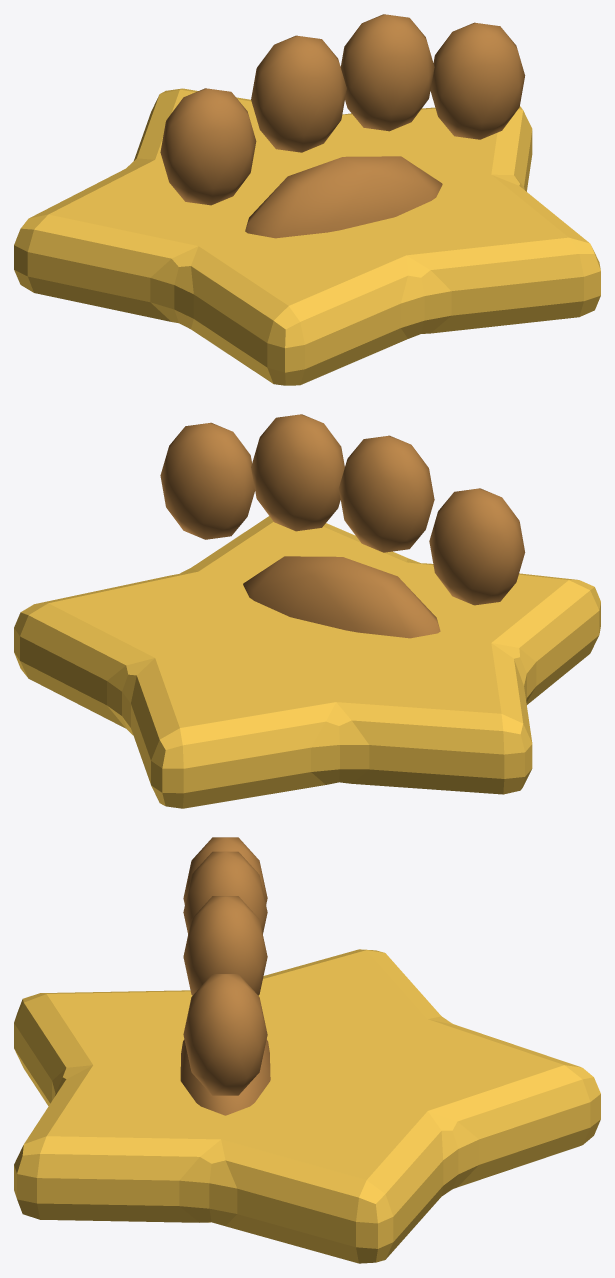
The model's file is paw_burst.glb.
The picture shows the model from 3 angles, top to bottom: view 1: azimuth 30°, elevation 25°; view 2: azimuth 150°, elevation 25°; view 3: azimuth 270°, elevation 25°; orthographic projection. The views are drawn at different scales.
Parts seen in each view (by area): view 1: GoldenPawBurst, PawPad, PawToe.2, PawToe.1, PawToe.4, PawToe.3; view 2: GoldenPawBurst, PawPad, PawToe.1, PawToe.2, PawToe.4, PawToe.3; view 3: GoldenPawBurst, PawToe.4, PawToe.3, PawToe.2, PawPad, PawToe.1.
Part boxes in pixels (x1=…): GoldenPawBurst: x1=14, y1=88, x2=600, y2=385; PawPad: x1=245, y1=156, x2=442, y2=238; PawToe.2: x1=251, y1=35, x2=346, y2=152; PawToe.1: x1=160, y1=88, x2=256, y2=205; PawToe.4: x1=430, y1=22, x2=525, y2=139; PawToe.3: x1=340, y1=14, x2=434, y2=131; GoldenPawBurst: x1=14, y1=516, x2=600, y2=808; PawPad: x1=243, y1=556, x2=440, y2=638; PawToe.1: x1=429, y1=488, x2=525, y2=605; PawToe.2: x1=338, y1=435, x2=434, y2=552; PawToe.4: x1=160, y1=422, x2=254, y2=539; PawToe.3: x1=251, y1=414, x2=344, y2=531; GoldenPawBurst: x1=14, y1=949, x2=600, y2=1263; PawToe.4: x1=183, y1=974, x2=267, y2=1095; PawToe.3: x1=183, y1=896, x2=267, y2=995; PawToe.2: x1=183, y1=851, x2=267, y2=934; PawPad: x1=180, y1=1039, x2=270, y2=1115; PawToe.1: x1=183, y1=837, x2=267, y2=904.
Bounding box in the file's own units: 0.8745 × 0.515 × 0.836.
